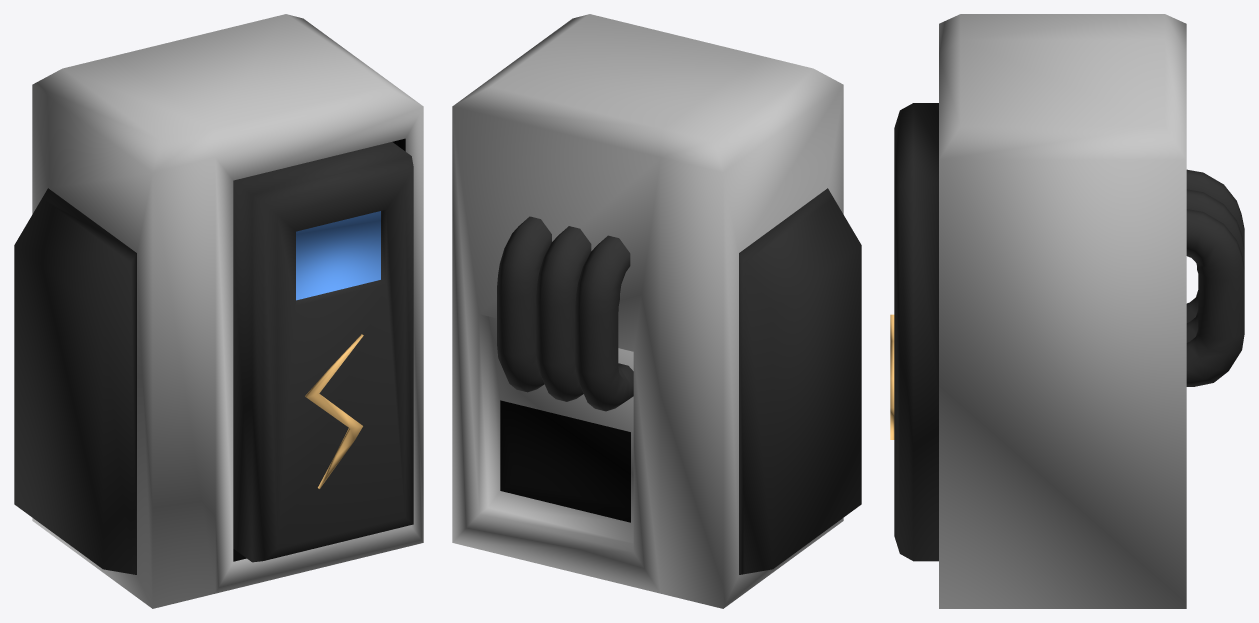
File: GAMEJAMHERO - Prop(Battery).fbx
The picture shows the model from 3 angles, left to right: view 1: azimuth 30°, elevation 25°; view 2: azimuth 150°, elevation 25°; view 3: azimuth 270°, elevation 25°; orthographic projection. The views are drawn at different scales.
Parts seen in each view (by area): view 1: Cube.014; view 2: Cube.014; view 3: Cube.014.
Boxes of the visible parts, bbox=[...] form: Cube.014: bbox=[14, 14, 423, 608]; Cube.014: bbox=[452, 14, 861, 608]; Cube.014: bbox=[890, 14, 1244, 608].
Bounding box in the file's own units: 58.53 × 83.49 × 57.21.
1 material, 1 textured.
